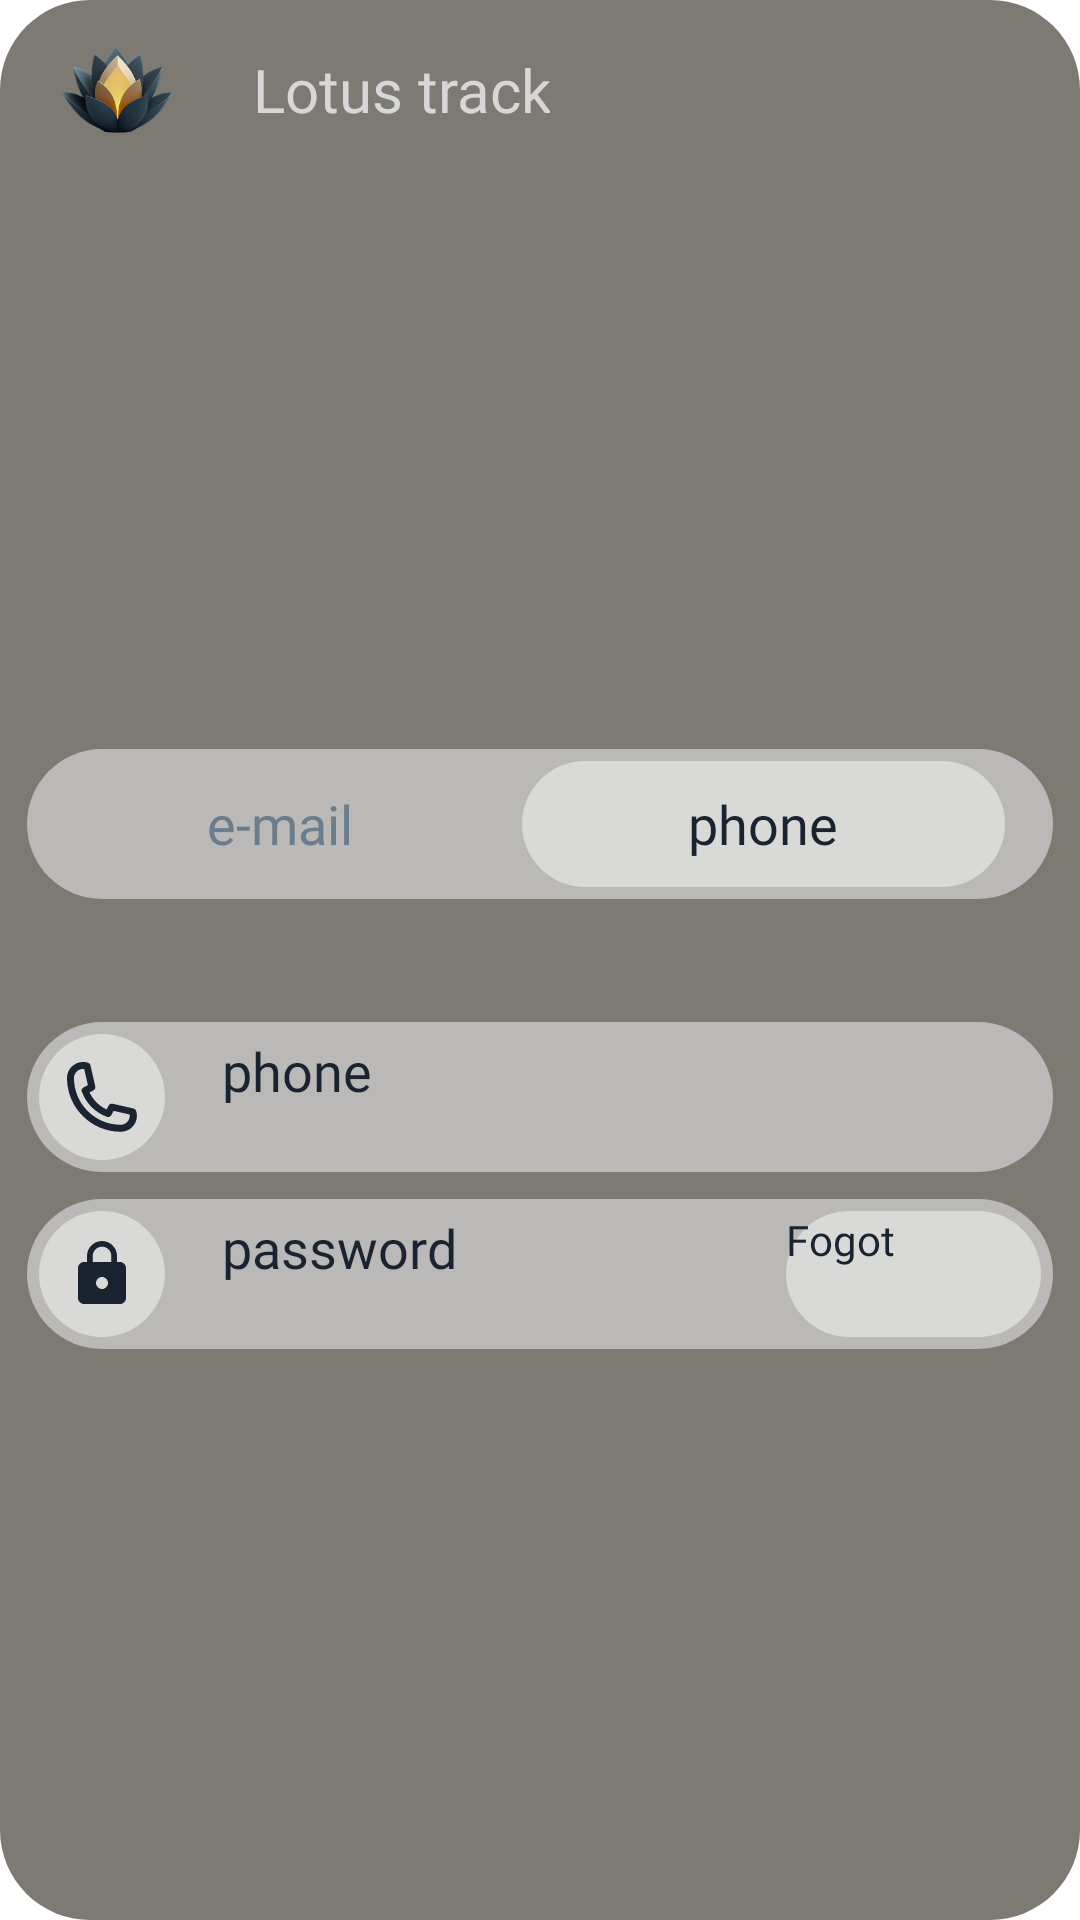

Where to tap for icons on this 1080 × 1920 app screen, as (x,y):
lock: (102,1272)
